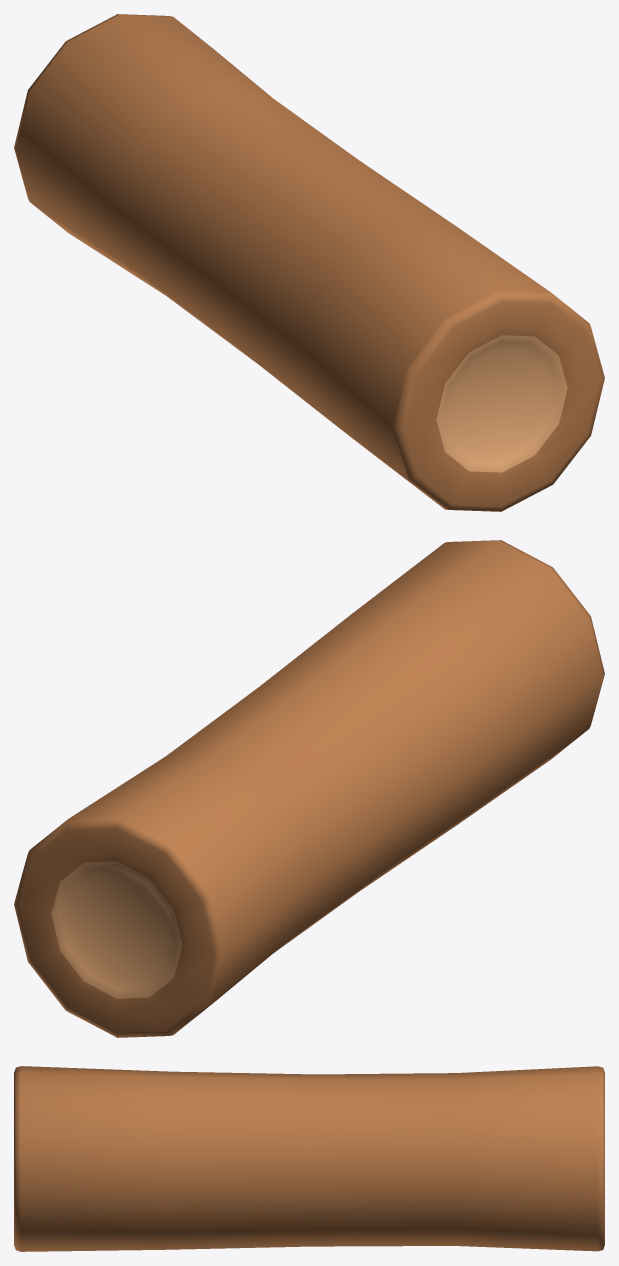
File: Log_04.fbx
The picture shows the model from 3 angles, top to bottom: view 1: azimuth 30°, elevation 25°; view 2: azimuth 150°, elevation 25°; view 3: azimuth 270°, elevation 25°; orthographic projection. The views are drawn at different scales.
Visible parts, largest first — view 1: Log_04; view 2: Log_04; view 3: Log_04.
Part boxes in pixels (bbox=[...]): Log_04: bbox=[14, 14, 604, 511]; Log_04: bbox=[14, 540, 604, 1037]; Log_04: bbox=[14, 1066, 604, 1251].
Bounding box in the file's own units: 209 × 209 × 663.
